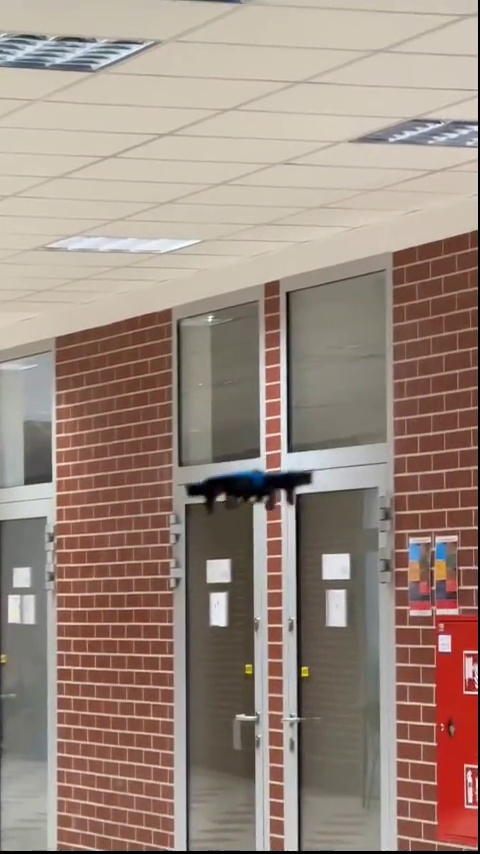drone: (187, 467, 316, 507)
